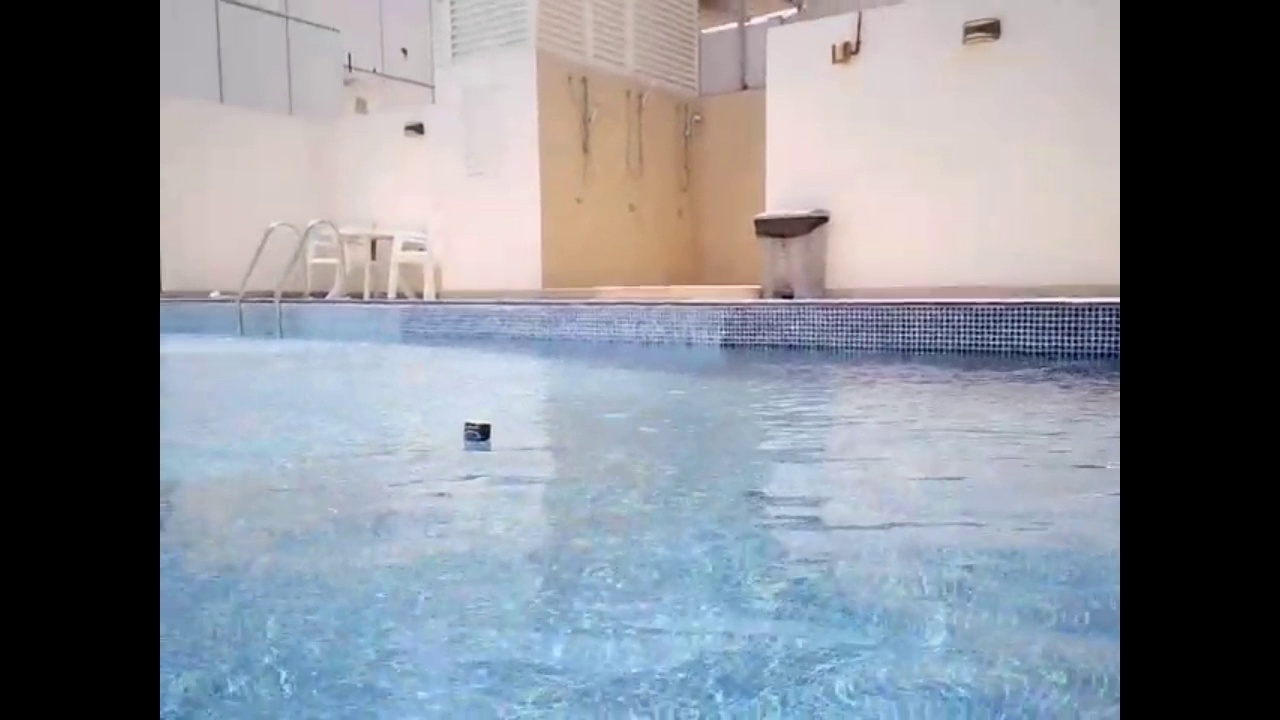debris: (457, 416, 496, 456)
